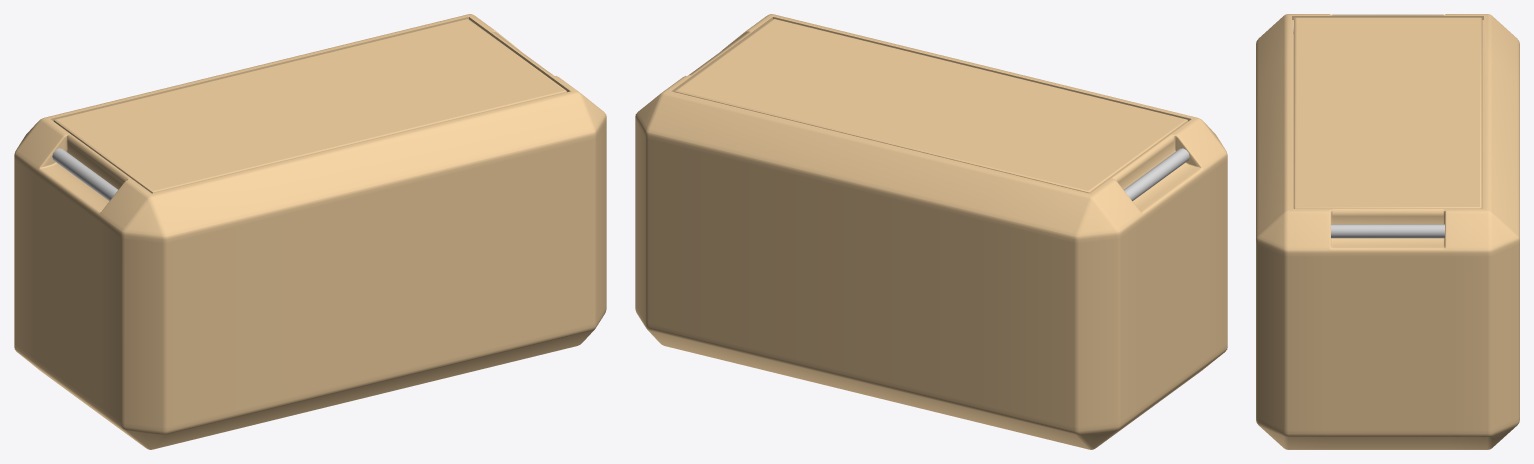
The model's file is crate_large.fbx.
3 renders of one model, left to right at view 1: azimuth 30°, elevation 25°; view 2: azimuth 150°, elevation 25°; view 3: azimuth 270°, elevation 25°, orthographic. The views are drawn at different scales.
Parts seen in each view (by area): view 1: crate_large; view 2: crate_large; view 3: crate_large.
Part boxes in pixels (box(x1,y1,x2,y2)): crate_large: box(14, 14, 606, 449); crate_large: box(635, 14, 1227, 449); crate_large: box(1256, 14, 1519, 449).
Size of the model in its own units: 200 by 100 by 100.
